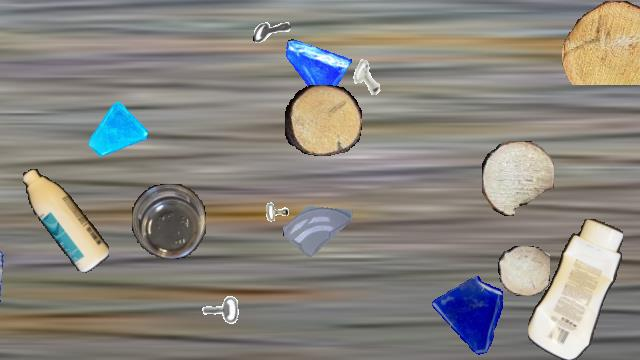glass: (428, 275, 512, 359), (283, 189, 355, 261), (282, 36, 352, 106), (89, 102, 147, 160), (0, 227, 9, 313)
metal: (342, 52, 394, 104), (191, 294, 241, 344), (250, 200, 298, 248), (253, 12, 291, 50)
plastic: (528, 219, 622, 359), (23, 169, 109, 273), (132, 184, 206, 258)
wood: (562, 1, 640, 85), (482, 141, 554, 215), (285, 85, 361, 155), (498, 246, 550, 296)
